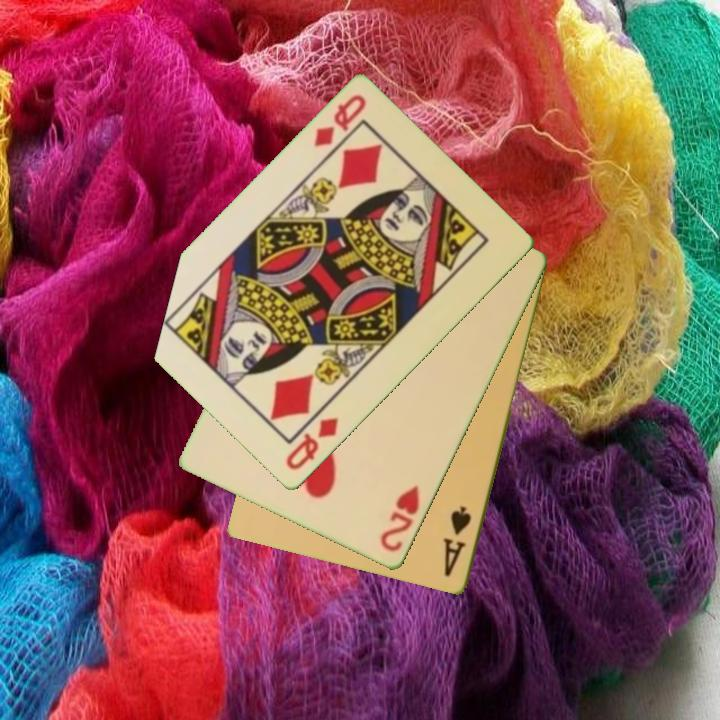2h: (377, 483, 423, 555)
As: (440, 502, 475, 580)
Qd: (282, 414, 342, 474), (310, 91, 370, 151)
